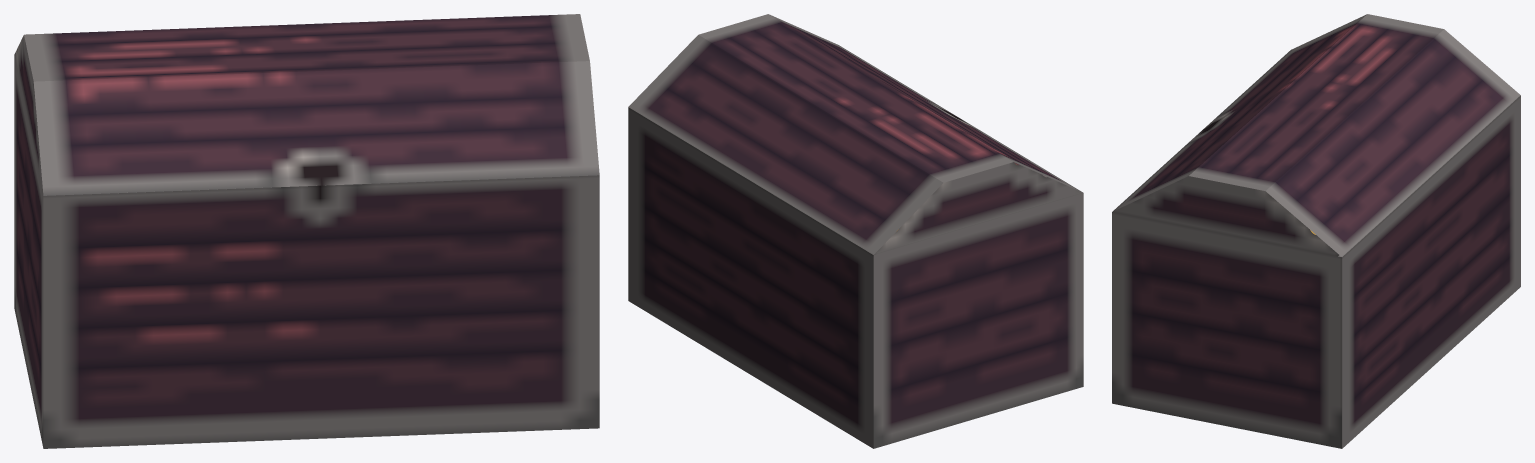
Rendered from chest_1.fbx.
3 renders of one model, left to right at view 1: azimuth 30°, elevation 25°; view 2: azimuth 150°, elevation 25°; view 3: azimuth 270°, elevation 25°, orthographic. The views are drawn at different scales.
Visible parts, largest first — view 1: Box004; view 2: Box004; view 3: Box004.
Boxes of the visible parts, <box> form: Box004: <box>14,14,599,448</box>; Box004: <box>628,14,1083,448</box>; Box004: <box>1112,14,1520,448</box>.
Bounding box in the file's own units: 45.66 × 38.05 × 24.92.
Materials: 1 (1 with a texture image).
